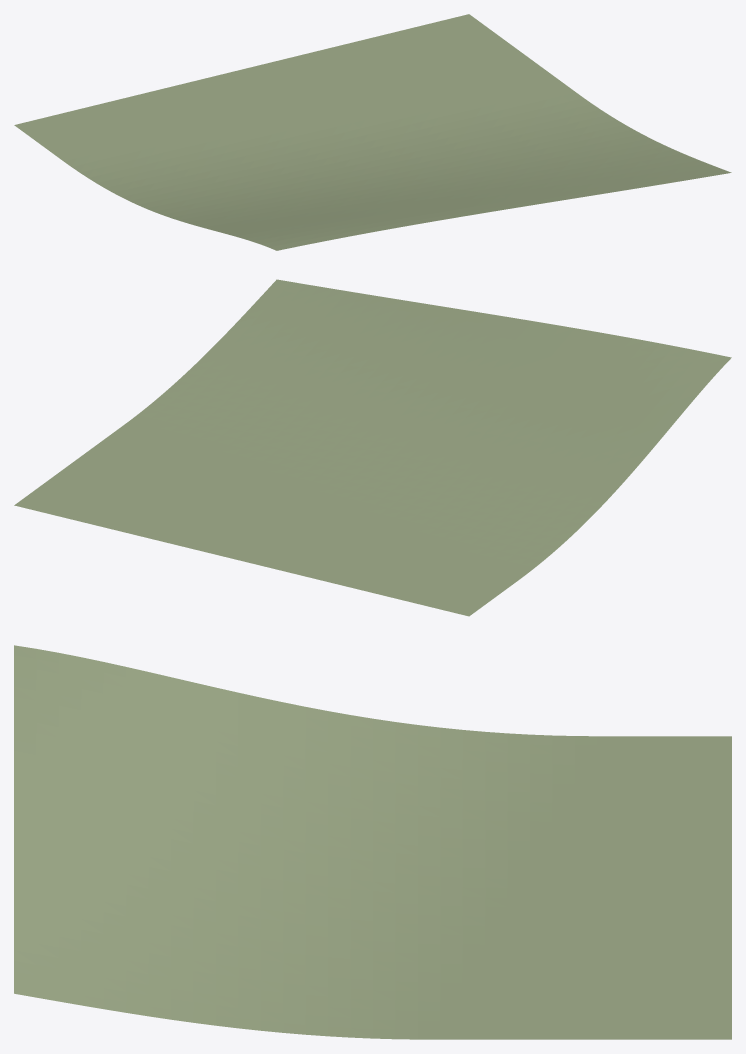
The model's file is valley-11-8.glb.
3 views of the same model, one above another, from view 1: azimuth 30°, elevation 25°; view 2: azimuth 150°, elevation 25°; view 3: azimuth 270°, elevation 25° (orthographic). The views are drawn at different scales.
Visible parts, largest first — view 1: valley-11-8; view 2: valley-11-8; view 3: valley-11-8.
Part boxes in pixels (bbox=[...]): valley-11-8: bbox=[14, 14, 731, 250]; valley-11-8: bbox=[14, 279, 731, 616]; valley-11-8: bbox=[14, 645, 731, 1039].
Bounding box in the file's own units: 256 × 35.77 × 256.
